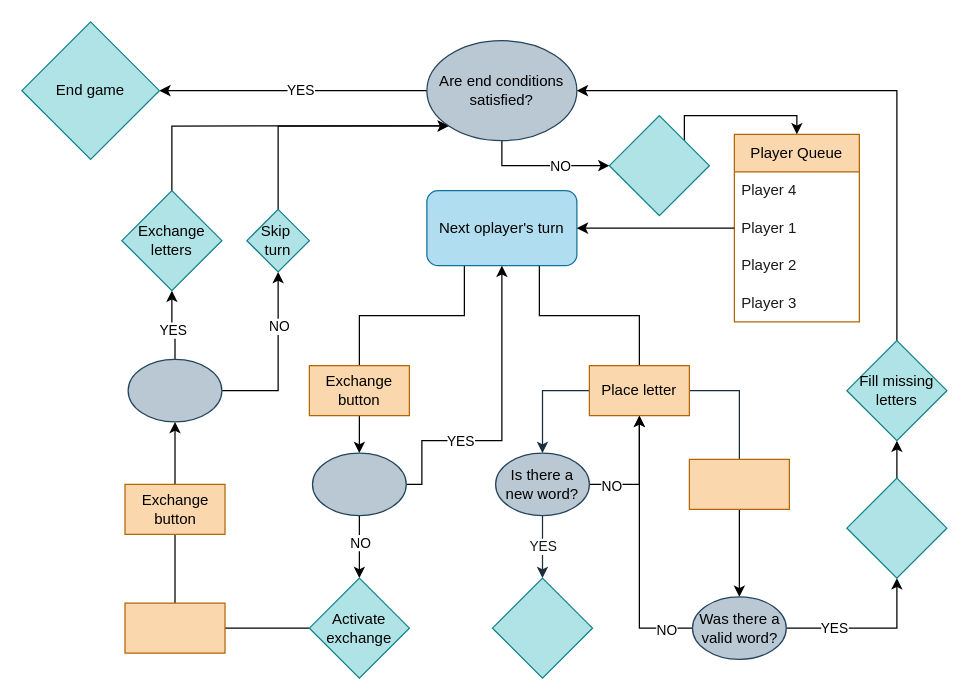
The diagram is 969 pixels wide and 700 high, and some of its shapes have lost their labels. Each missing label, with the centre of its shape:
"Adjust points" goes at (x=896, y=527).
"Any letters selected?" goes at (x=174, y=390).
"Calculate points" goes at (x=541, y=627).
"End turn button" goes at (x=738, y=483).
"Rotate Queue" goes at (x=658, y=165).
"Select letters" goes at (x=174, y=627).
"Was a letter placed?" goes at (x=358, y=484).
